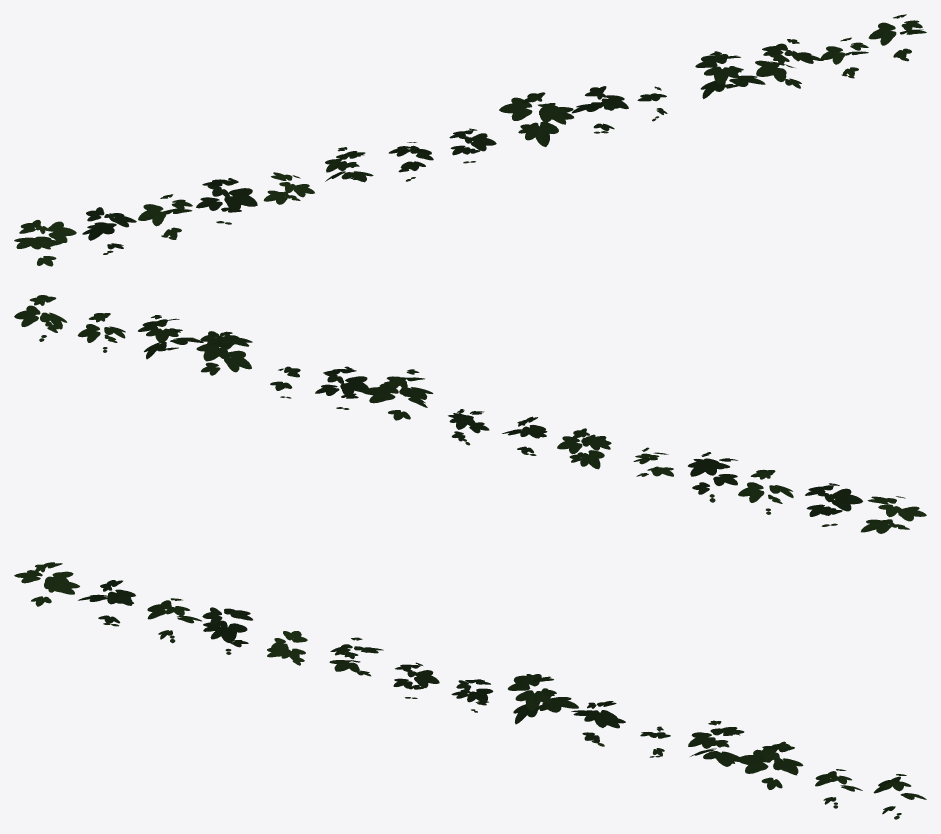
File: ROW_19_SEG2_foliage.dae
3 renders of one model, top to bottom at view 1: azimuth 30°, elevation 25°; view 2: azimuth 150°, elevation 25°; view 3: azimuth 330°, elevation 25°, orthographic.
Visible parts, largest first — view 1: ROW_19_SEG2_foliage; view 2: ROW_19_SEG2_foliage; view 3: ROW_19_SEG2_foliage.
Part boxes in pixels (x1=…): ROW_19_SEG2_foliage: x1=14, y1=14, x2=926, y2=266; ROW_19_SEG2_foliage: x1=14, y1=295, x2=926, y2=533; ROW_19_SEG2_foliage: x1=14, y1=562, x2=926, y2=819.
Bounding box in the file's own units: 4.52 × 0.3107 × 0.257.
